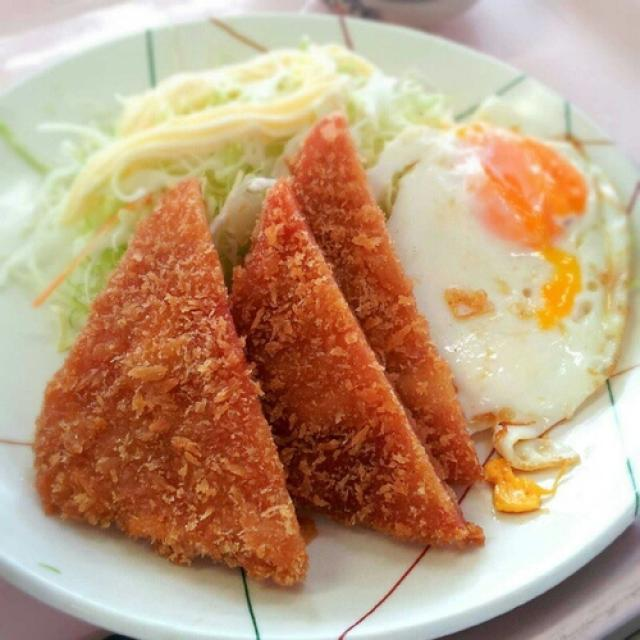炸货点心: (15, 15, 628, 621)
